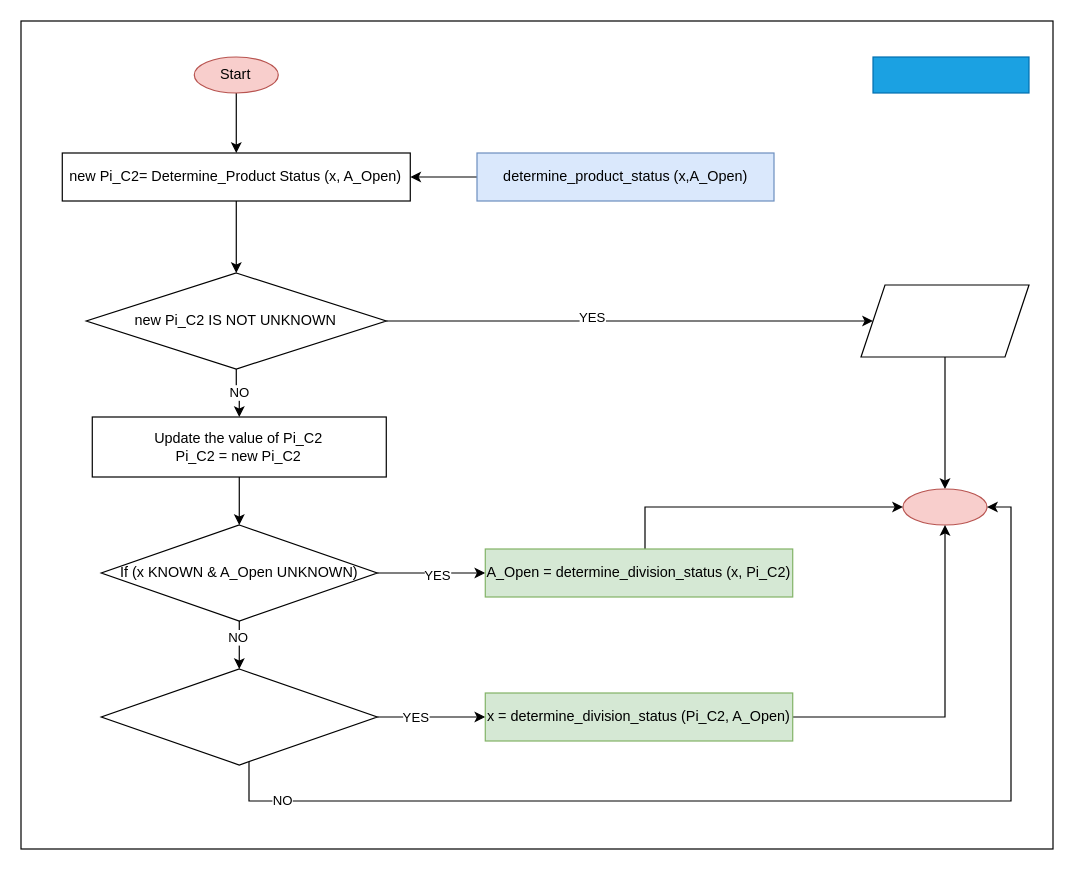
This 1074x870 diagram has some shape labels left out. The shapes that lost their labels are listed below. From the top down, each one's box as (x1, y1, x2, y2) in pixels, then its label:
(872, 56, 1029, 93): Propagate Pi_C2
(860, 284, 1029, 357): Print CONTRADICTION
(902, 488, 987, 525): STOP
(100, 668, 377, 765): If (x UNKNOWN & A_Open KNOWN)
